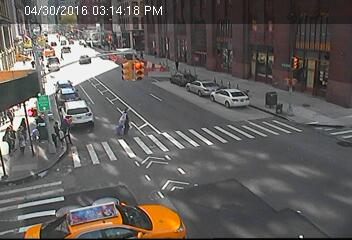neg: (283, 151, 312, 190), (93, 162, 119, 197), (178, 186, 199, 214), (212, 50, 232, 77), (184, 124, 203, 149), (296, 98, 313, 121), (321, 80, 335, 99), (256, 71, 263, 80), (122, 60, 128, 68)
pos: (111, 100, 137, 135), (13, 112, 32, 137), (47, 118, 64, 141)
